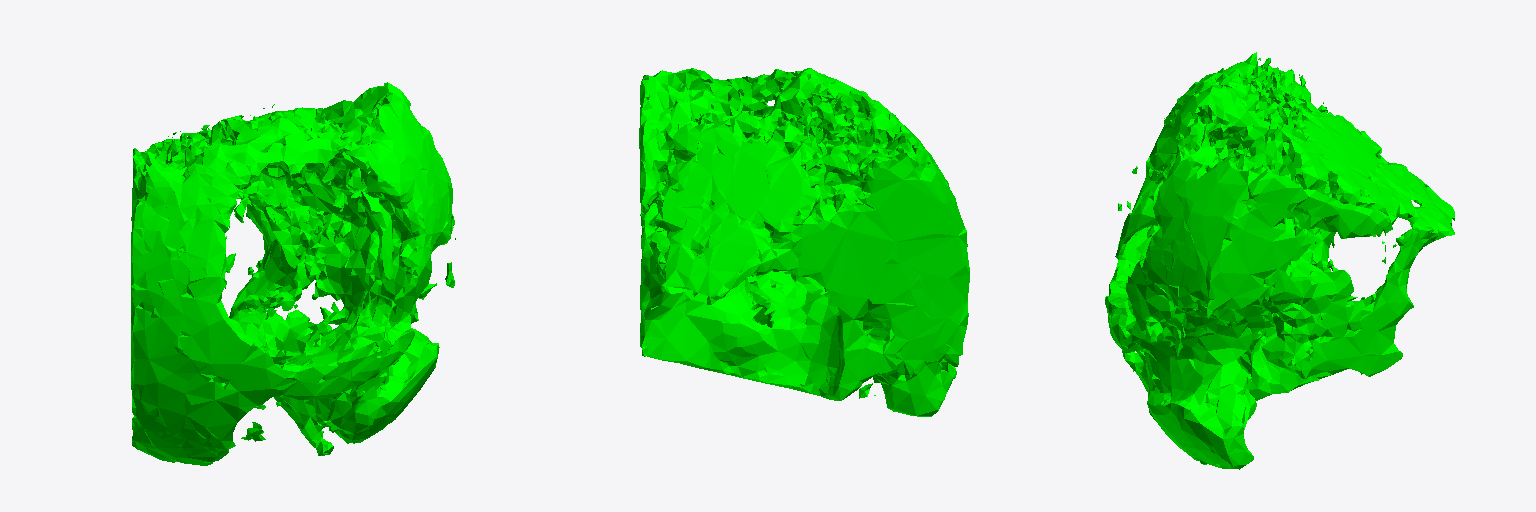
The model's file is B939XXXX-1_base_11.obj.
3 renders of one model, left to right at view 1: azimuth 30°, elevation 25°; view 2: azimuth 150°, elevation 25°; view 3: azimuth 270°, elevation 25°, orthographic.
Visible parts, largest first — view 1: 11_base; view 2: 11_base; view 3: 11_base.
Part boxes in pixels (x1,y1,x2,y2): 11_base: (131, 82, 455, 465); 11_base: (639, 68, 969, 416); 11_base: (1105, 52, 1454, 469).
Bounding box in the file's own units: 217 × 214 × 202.